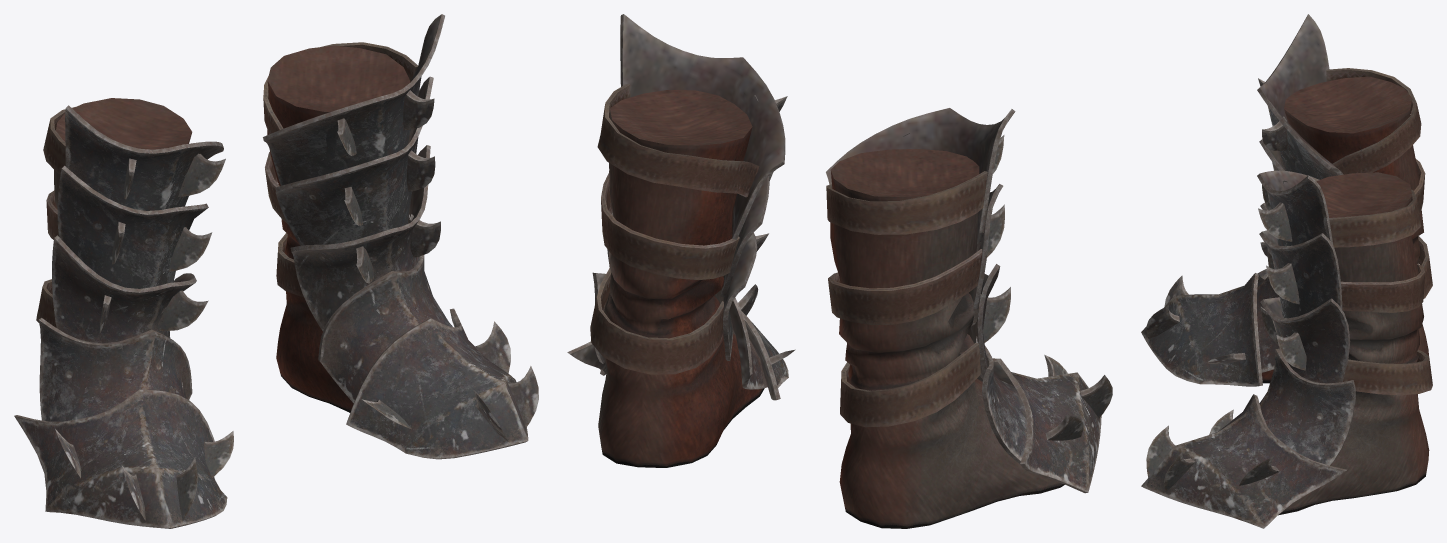
Rendered from sk_dg_uruk_boots_lord_f.fbx.
3 views of the same model, side by side, from view 1: azimuth 30°, elevation 25°; view 2: azimuth 150°, elevation 25°; view 3: azimuth 270°, elevation 25° (orthographic). The views are drawn at different scales.
Parts seen in each view (by area): view 1: sk_dg_uruk_boots_lord_f.0, sk_dg_uruk_boots_lord_f.1; view 2: sk_dg_uruk_boots_lord_f.0, sk_dg_uruk_boots_lord_f.1; view 3: sk_dg_uruk_boots_lord_f.0, sk_dg_uruk_boots_lord_f.1.
Part boxes in pixels (bbox=[...]): sk_dg_uruk_boots_lord_f.0: bbox=[14, 14, 528, 528]; sk_dg_uruk_boots_lord_f.1: bbox=[36, 42, 538, 520]; sk_dg_uruk_boots_lord_f.0: bbox=[567, 14, 1101, 528]; sk_dg_uruk_boots_lord_f.1: bbox=[590, 84, 1112, 440]; sk_dg_uruk_boots_lord_f.0: bbox=[1141, 14, 1429, 528]; sk_dg_uruk_boots_lord_f.1: bbox=[1146, 68, 1432, 491].
Bounding box in the file's own units: 0.6097 × 0.3708 × 0.4681.
2 materials, 2 textured.
